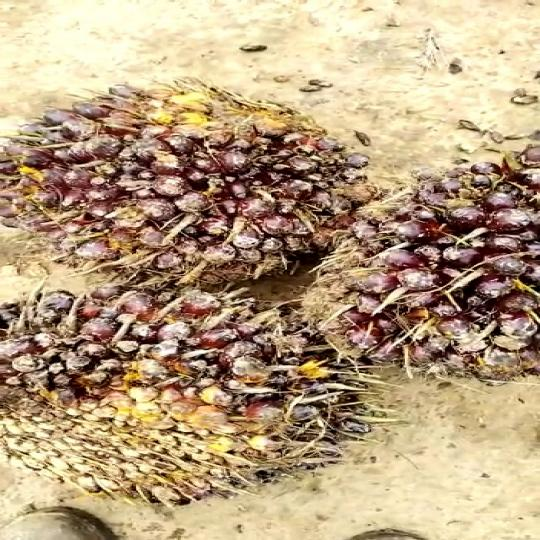kurang masak: (0, 264, 377, 523), (0, 67, 357, 289), (320, 126, 540, 397)
